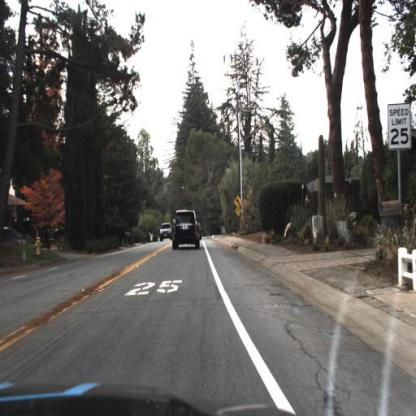car: (173, 210, 201, 250), (161, 222, 173, 243)
